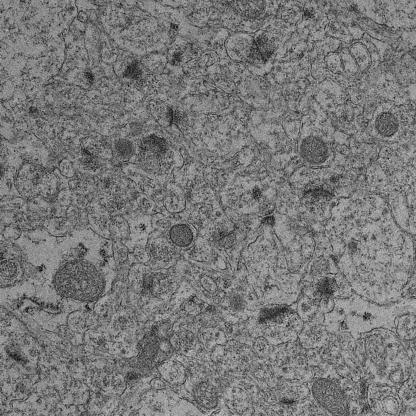mitochondria: (52, 256, 107, 305), (309, 376, 353, 416), (298, 134, 330, 166), (167, 222, 196, 249), (374, 109, 400, 139)
